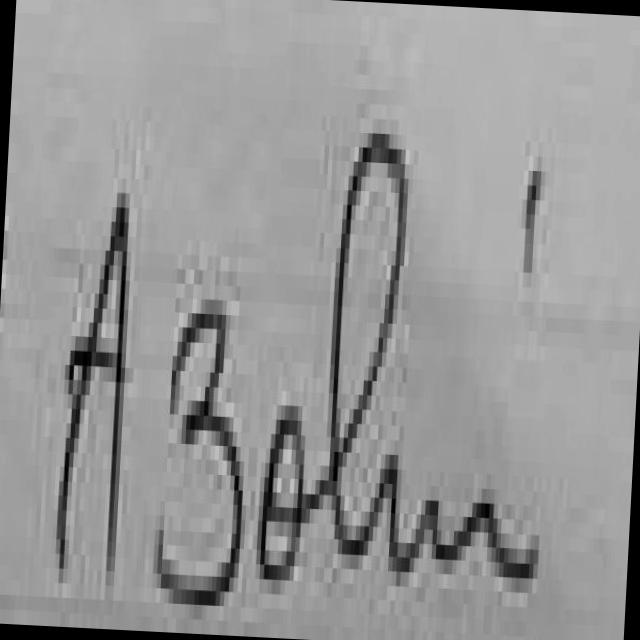A: (57, 193, 130, 586)
i: (347, 455, 419, 572)
l: (305, 135, 407, 565)
n: (426, 492, 538, 589)
o: (261, 400, 305, 583)
z: (161, 313, 246, 604)
